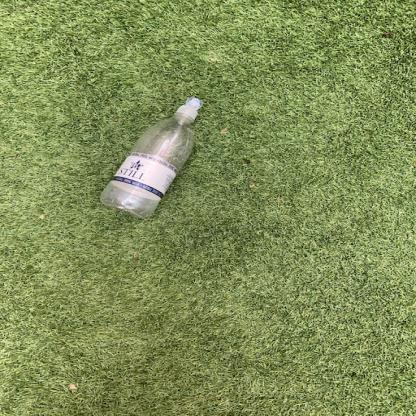trash: (101, 95, 204, 222)
